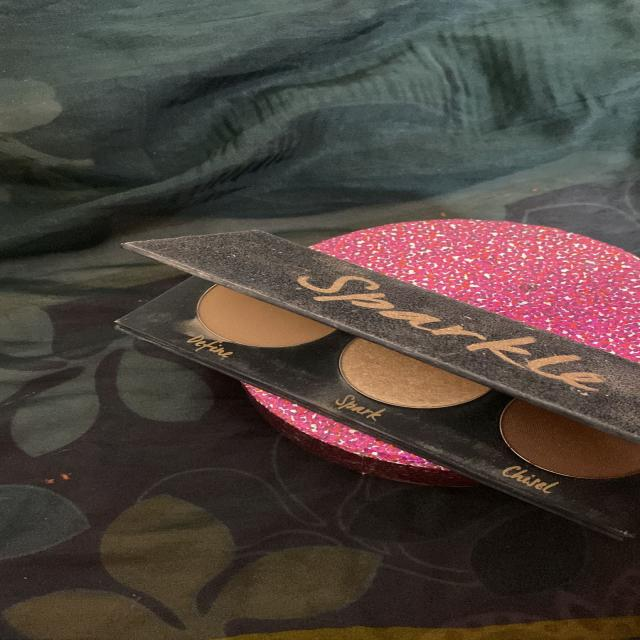bronzer: (495, 379, 640, 490), (185, 267, 348, 358)
highlighter: (337, 329, 494, 416)
